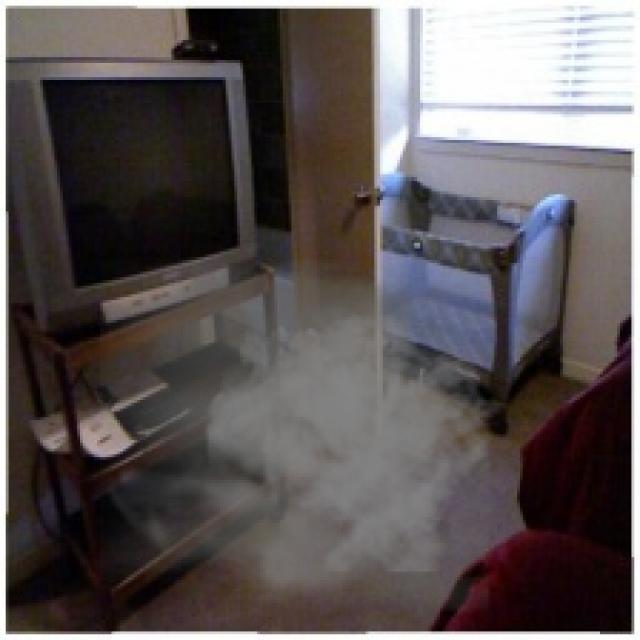Smoke: (100, 257, 503, 612)
